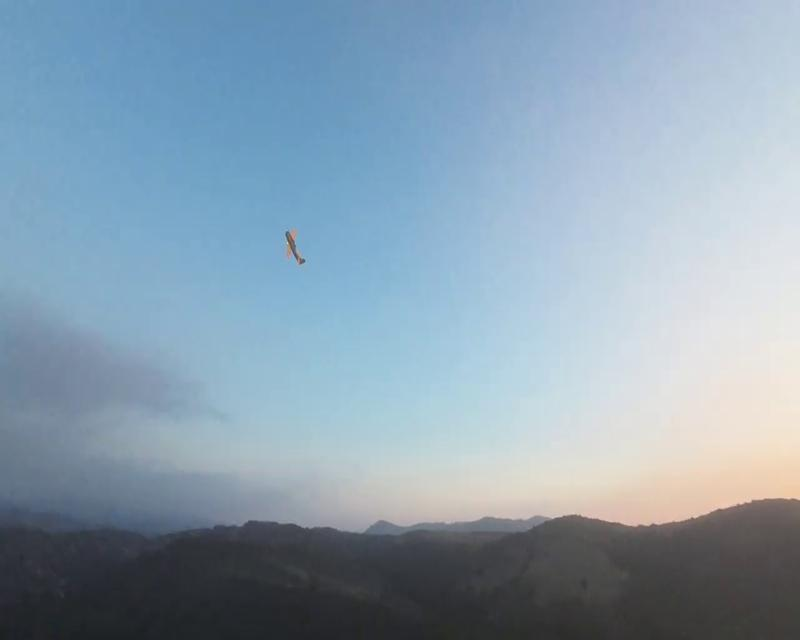UAV: (284, 228, 306, 265)
